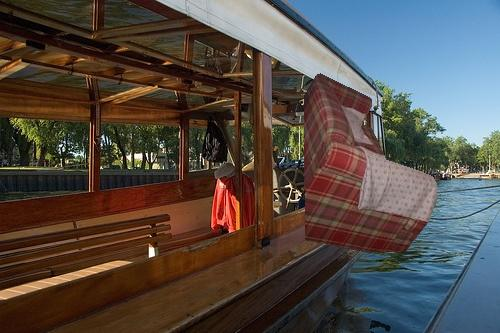tampered: (305, 74, 437, 252)
